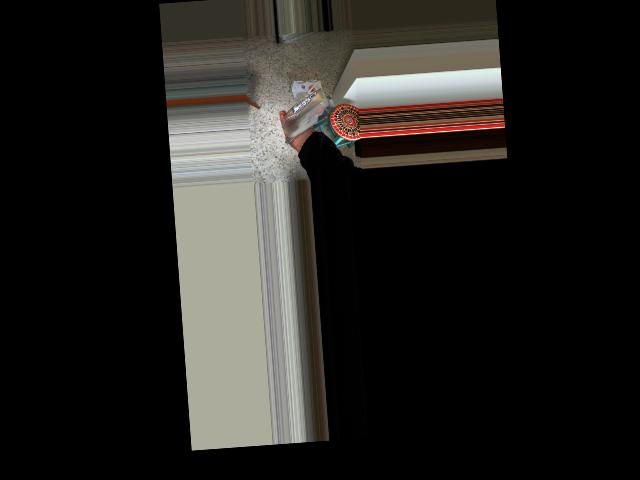cheese: (273, 71, 354, 148)
